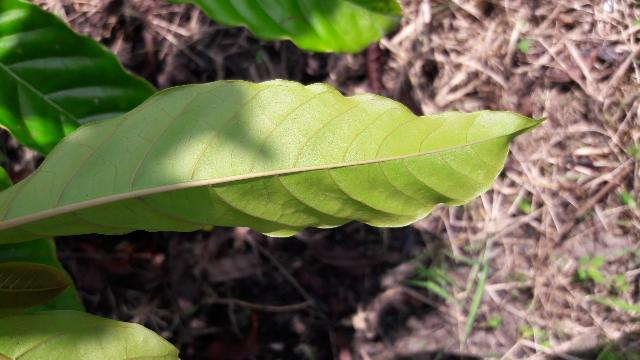healthy: (0, 80, 554, 247)
